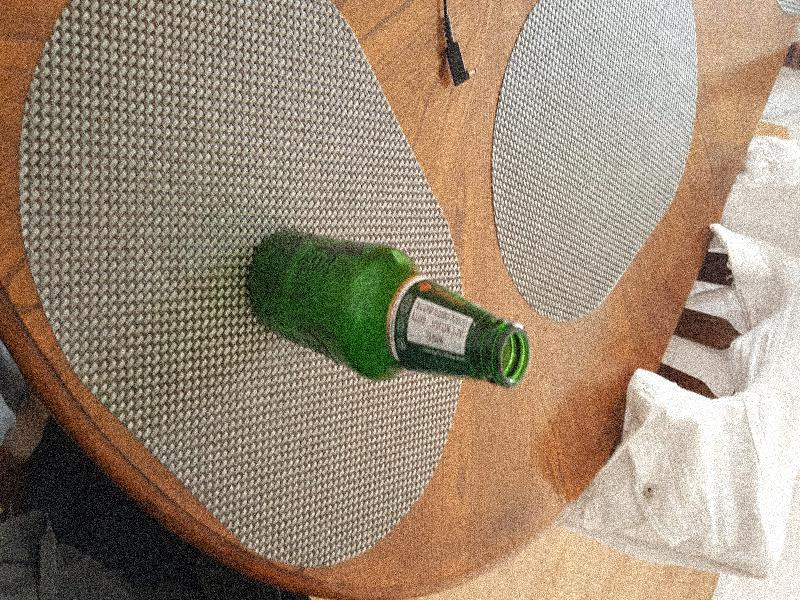Beer: (247, 228, 525, 376)
